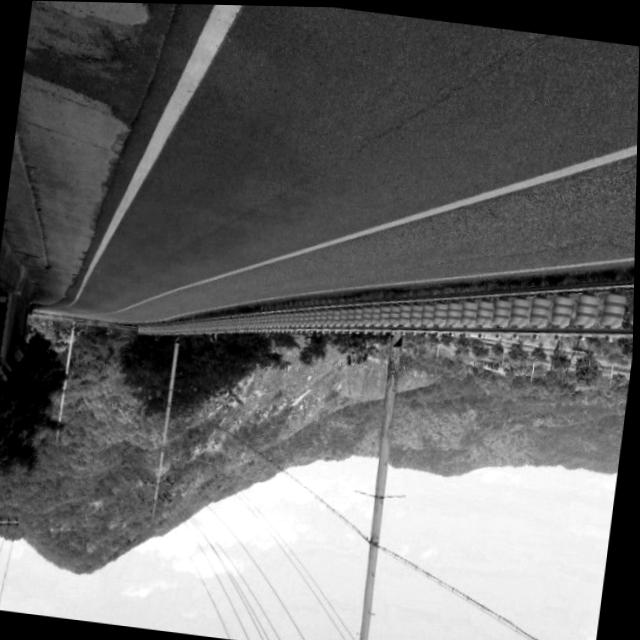cleat: (0, 1, 639, 506)
